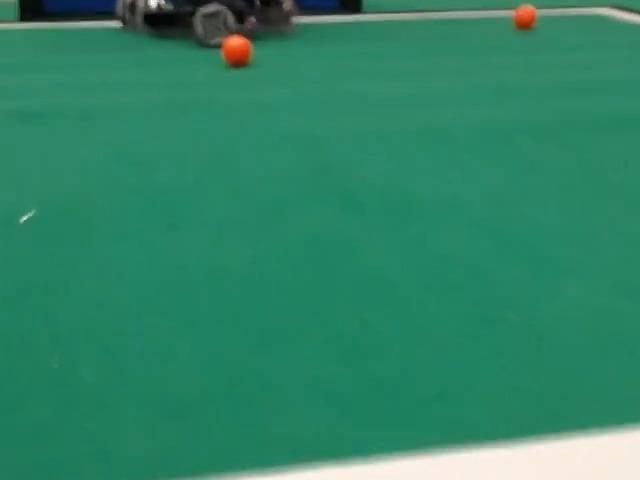Ball: (221, 34, 252, 67), (513, 4, 536, 29)
